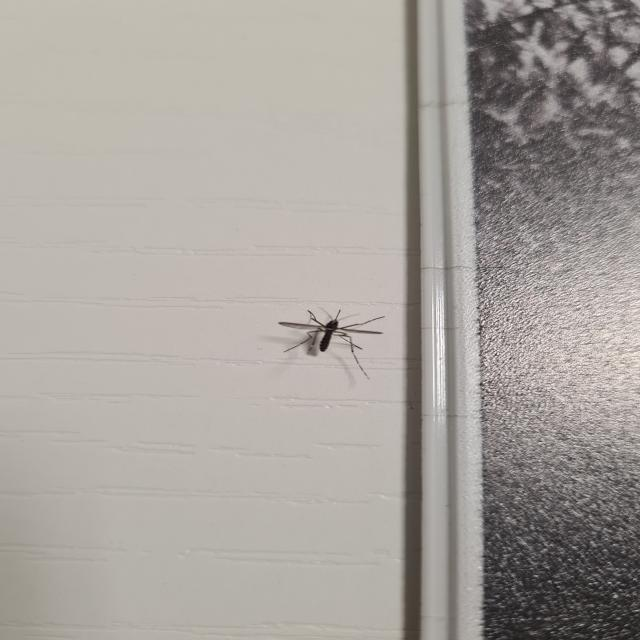albopictus: (270, 302, 390, 372)
